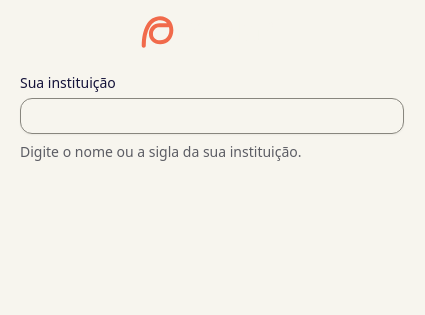
escolha da instituição › busca com espera
This screenshot has width=425, height=315.
Type "univ" into the field labelled "Sua instituição" at {"x": 212, "y": 116}, box [20,98,404,134]
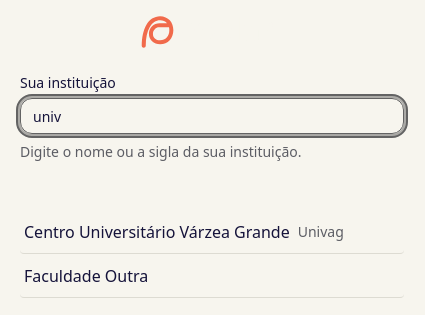
Expected: the link "Centro Universitário Várzea Grande Univag" is shown, [20,210,404,254]
